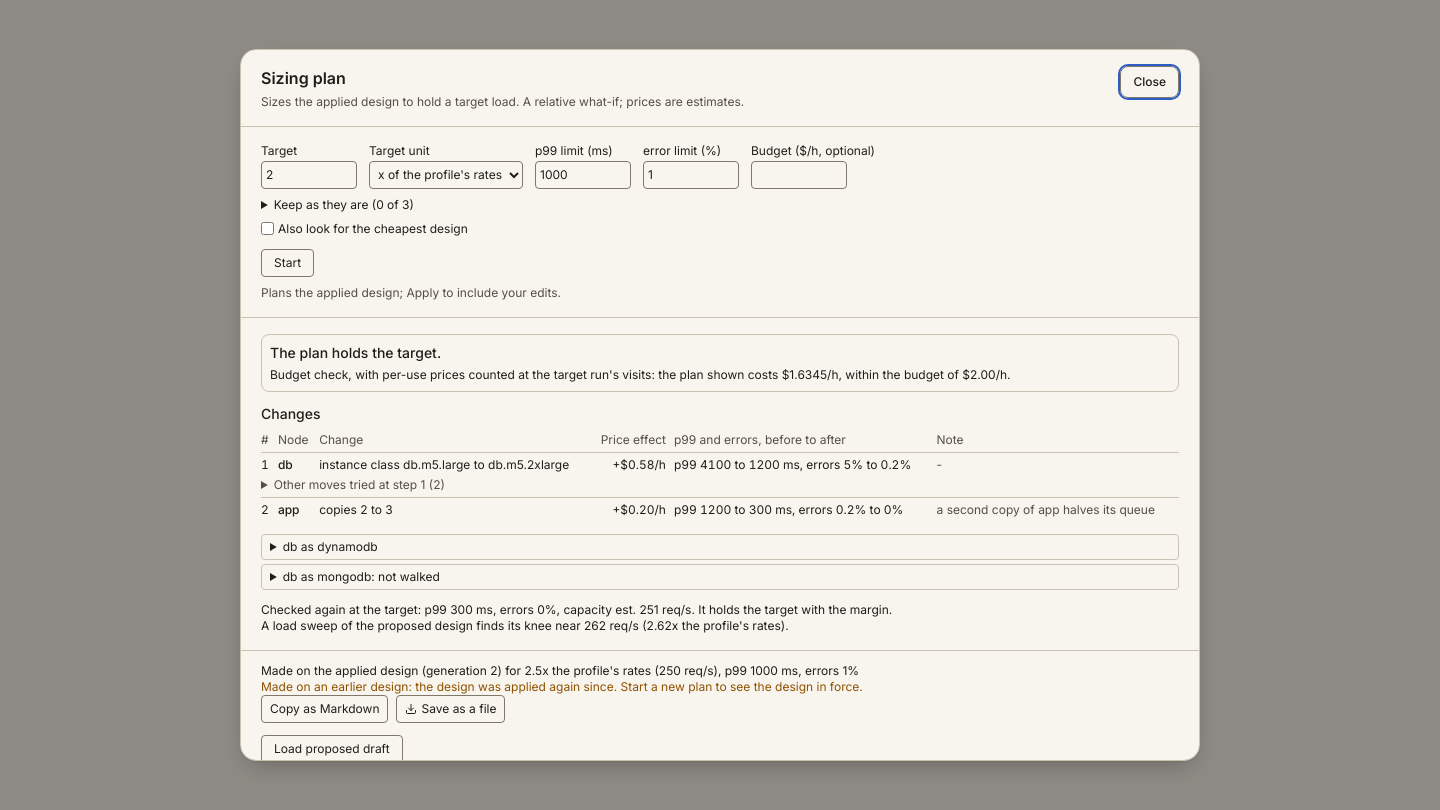
Test: a plan from an earlier generation says so
Expected: the text "Made on the applied design (generation 2) for " is shown, [261,663,859,678]
Expected: the text "Made on an earlier design: the design was applied again since. Start a new plan to see the design in force." is shown, [261,679,863,694]
Click the button "Load proposed draft" at [332, 749], box [261,735,403,763]
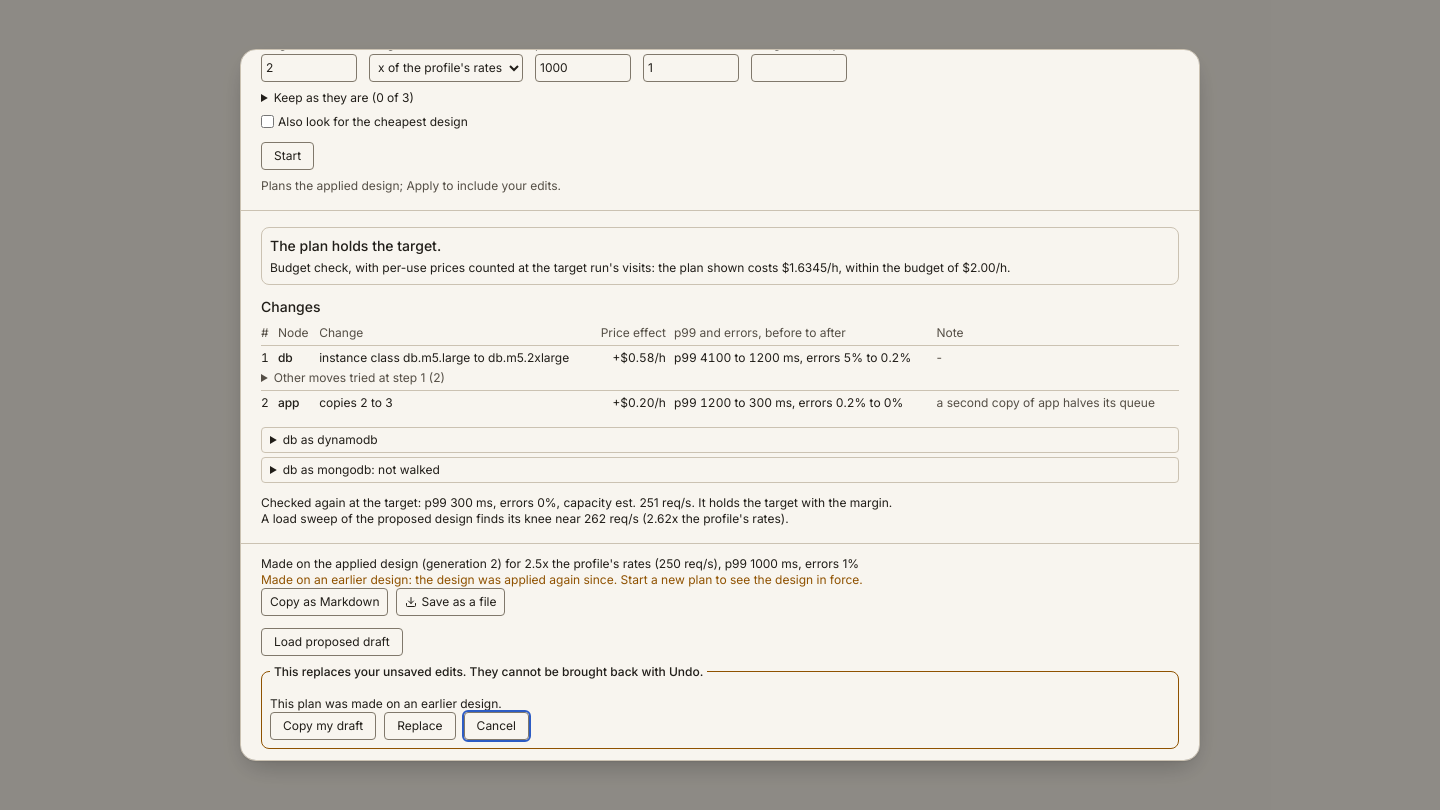
Expected: the text "This plan was made on an earlier design." is shown, [270,696,502,711]
